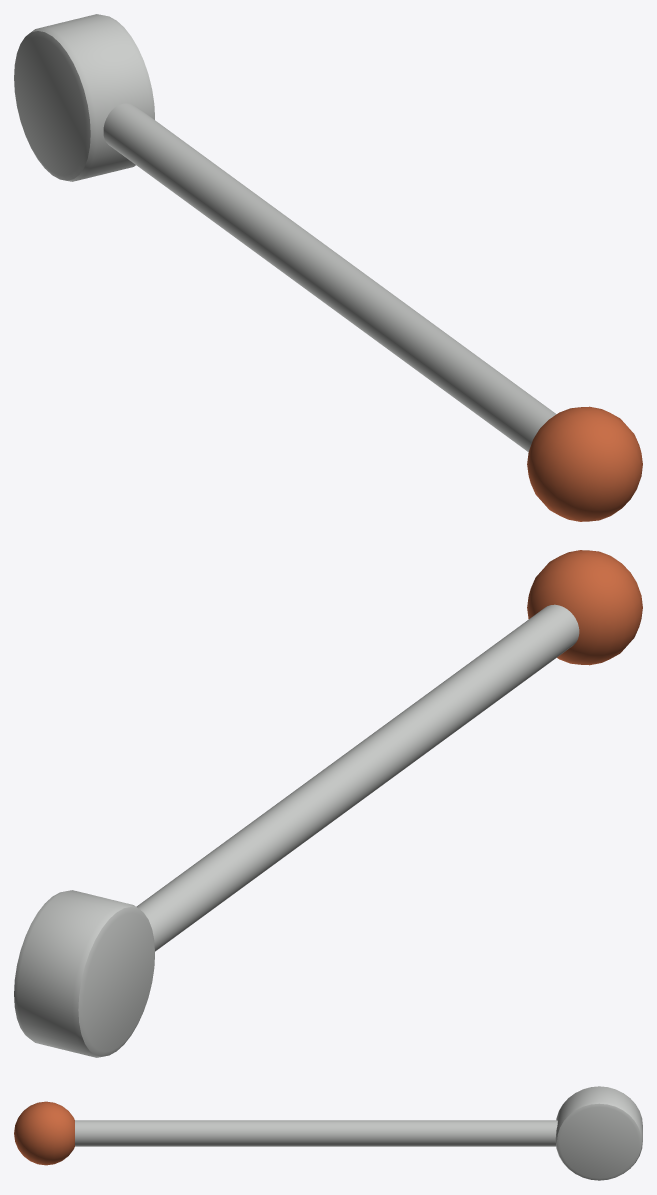
The model's file is arbor_press_lever.glb.
3 renders of one model, top to bottom at view 1: azimuth 30°, elevation 25°; view 2: azimuth 150°, elevation 25°; view 3: azimuth 270°, elevation 25°, orthographic. The views are drawn at different scales.
Parts seen in each view (by area): view 1: arbor_press_lever; view 2: arbor_press_lever; view 3: arbor_press_lever.
Boxes of the visible parts, x1,y1,x2,y2 form: arbor_press_lever: (14,14,642,521); arbor_press_lever: (14,550,642,1057); arbor_press_lever: (14,1086,642,1180).
Bounding box in the file's own units: 0.044 × 0.06 × 0.432.
